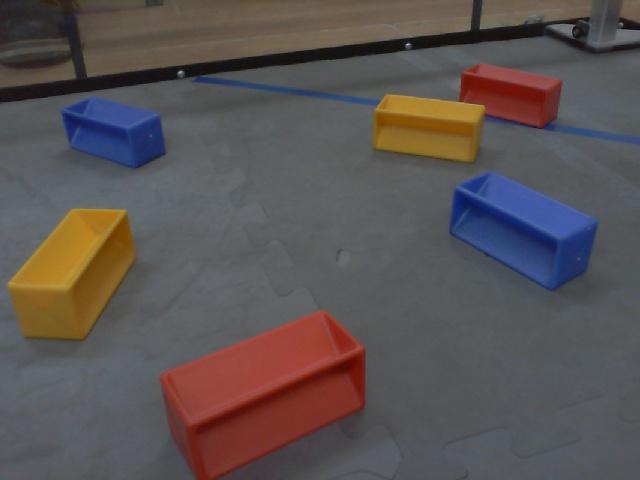BlueSample: (444, 167, 597, 294), (61, 93, 168, 171)
RedSample: (157, 295, 369, 476), (454, 58, 565, 130)
YellowSample: (3, 198, 139, 344), (360, 89, 486, 163)
